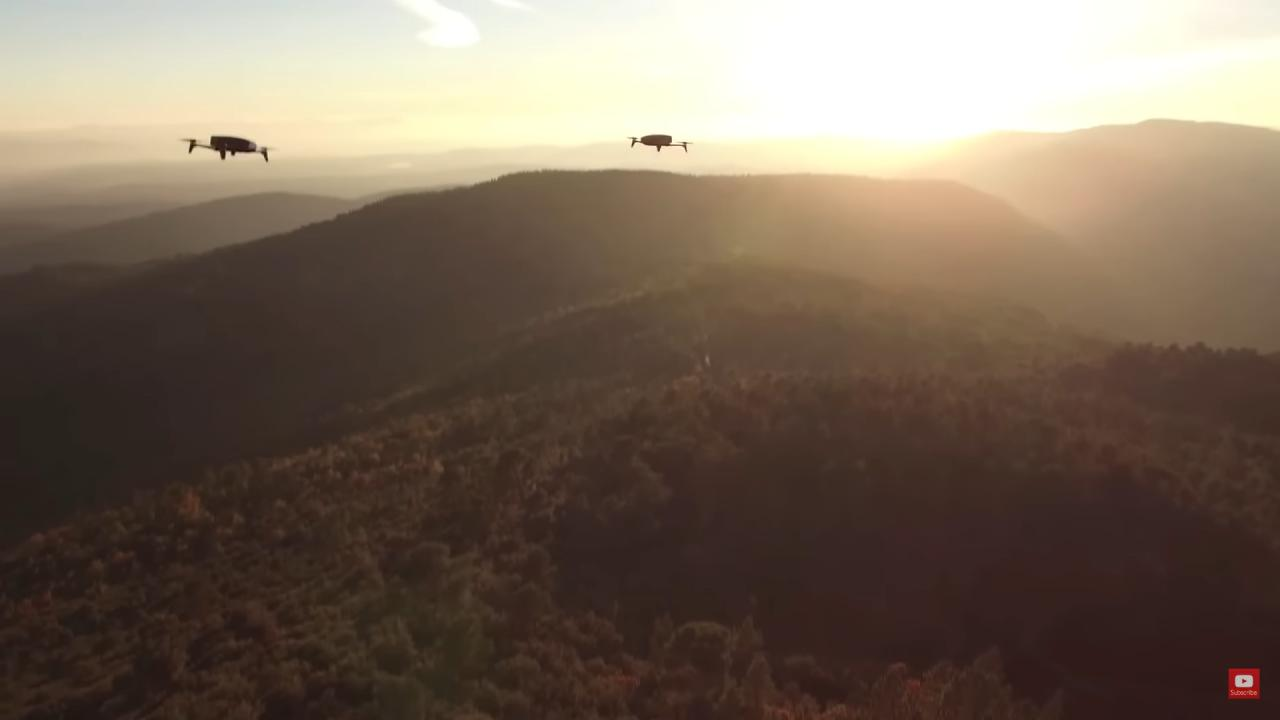Drone: (166, 127, 280, 169), (621, 126, 694, 158)
